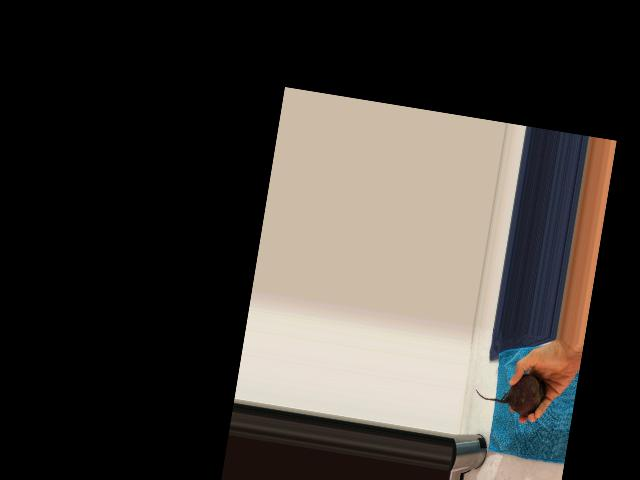beet: (473, 366, 549, 419)
